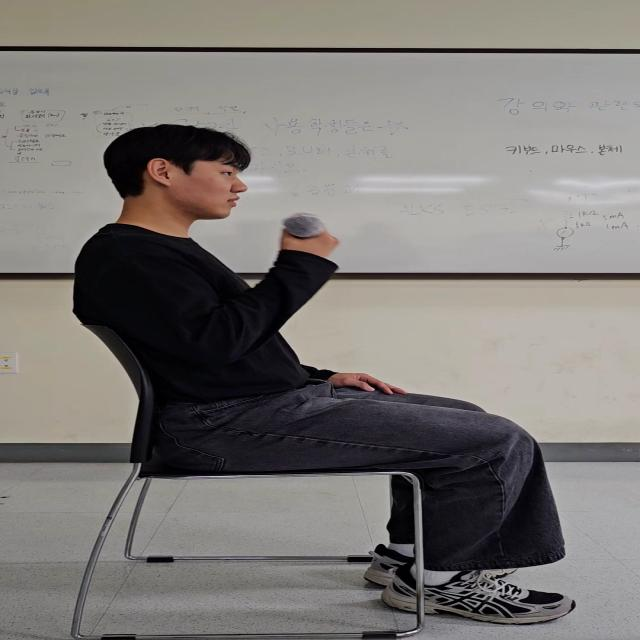curl: (222, 247, 312, 347), (130, 266, 222, 351)
